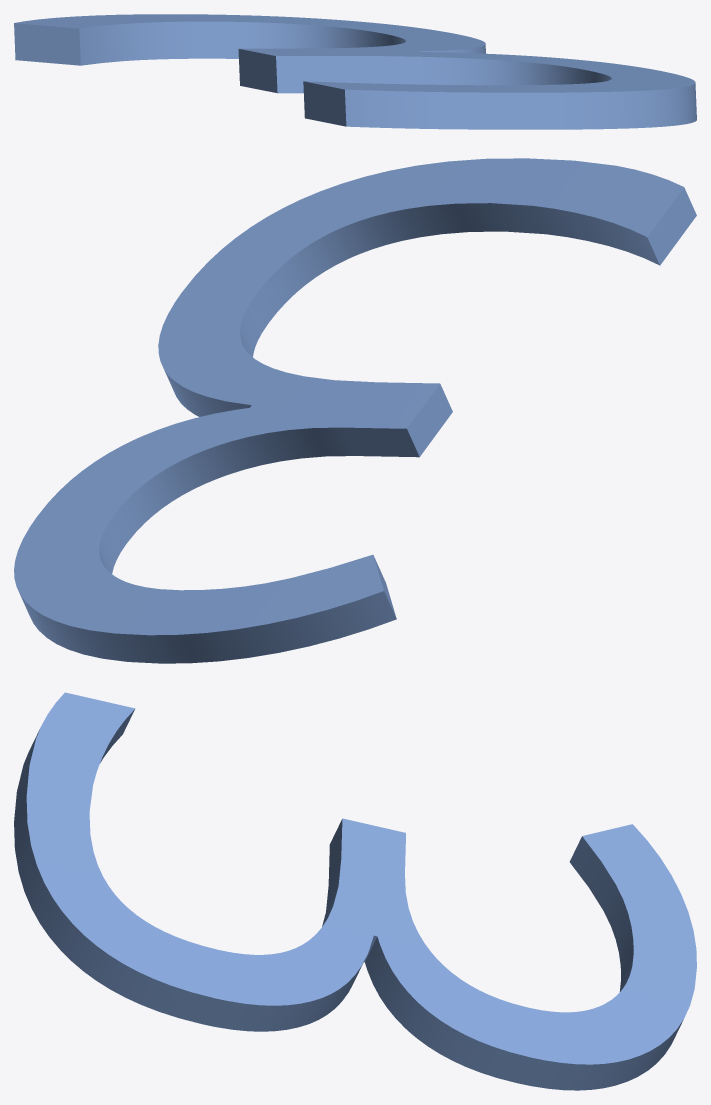
File: New_Number_3.gltf
3 views of the same model, one above another, from view 1: azimuth 30°, elevation 25°; view 2: azimuth 150°, elevation 25°; view 3: azimuth 270°, elevation 25° (orthographic). The views are drawn at different scales.
Visible parts, largest first — view 1: Part 651; view 2: Part 651; view 3: Part 651.
Boxes of the visible parts, x1=… form: Part 651: x1=14, y1=14, x2=696, y2=129; Part 651: x1=14, y1=158, x2=696, y2=663; Part 651: x1=14, y1=692, x2=696, y2=1090.
Bounding box in the file's own units: 0.00338 × 0.00205 × 0.00511.
